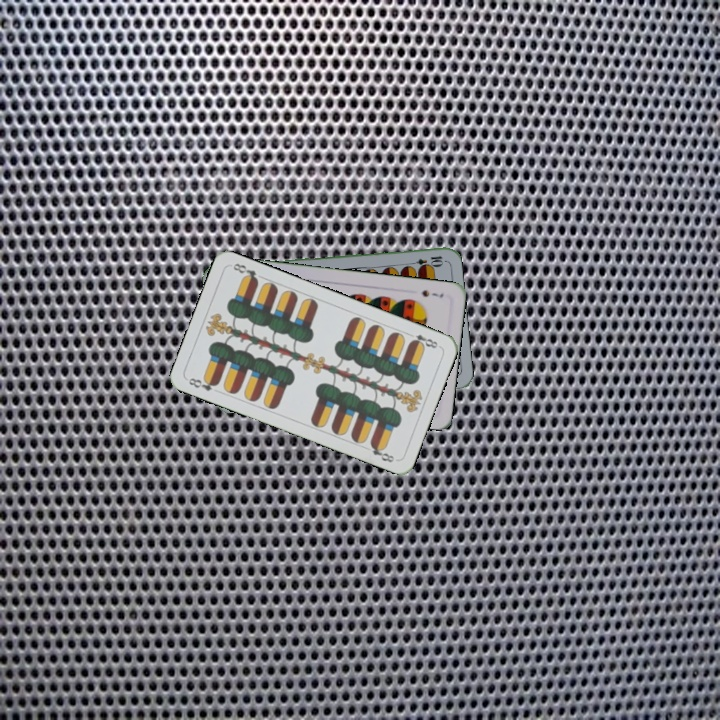E10: (405, 252, 446, 269)
E8: (403, 329, 440, 351), (184, 373, 221, 394)
S7: (418, 286, 446, 300)
